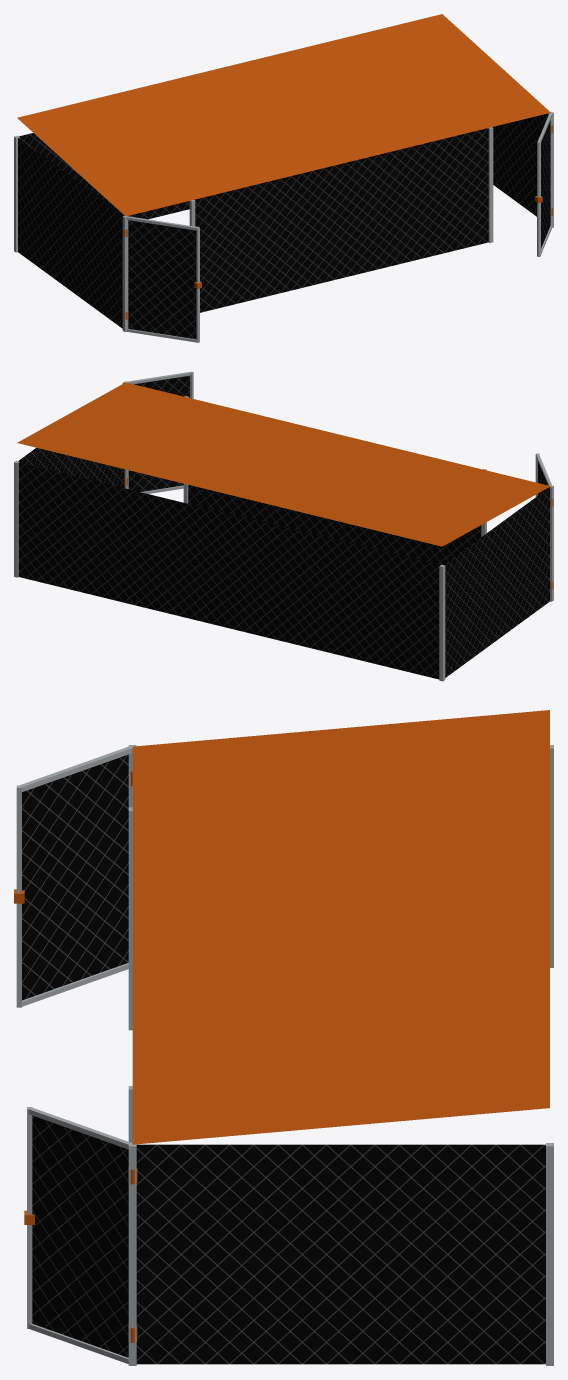
Rendered from poi05_familia_kikiri_preview.glb.
3 renders of one model, top to bottom at view 1: azimuth 30°, elevation 25°; view 2: azimuth 150°, elevation 25°; view 3: azimuth 270°, elevation 25°, orthographic. The views are drawn at different scales.
Parts seen in each view (by area): view 1: techo_lamina_una_agua, malla_ciclonica_h1_8, puerta_D1, puerta_D2, eje_V1, eje_M2, eje_V4, eje_V2; view 2: malla_ciclonica_h1_8, techo_lamina_una_agua, puerta_D2, eje_V4, eje_V3, eje_V1, puerta_D1; view 3: techo_lamina_una_agua, malla_ciclonica_h1_8, puerta_D1, puerta_D2, eje_V2, eje_V3, eje_M1, eje_V4.
Boxes of the visible parts, bbox=[...] form: techo_lamina_una_agua: bbox=[17, 14, 550, 216]; malla_ciclonica_h1_8: bbox=[18, 113, 548, 328]; puerta_D1: bbox=[123, 216, 201, 342]; puerta_D2: bbox=[535, 112, 552, 256]; eje_V1: bbox=[122, 215, 128, 331]; eje_M2: bbox=[488, 127, 493, 243]; eje_V4: bbox=[14, 135, 19, 252]; eje_V2: bbox=[548, 111, 553, 227]; malla_ciclonica_h1_8: bbox=[18, 447, 549, 679]; techo_lamina_una_agua: bbox=[17, 382, 550, 546]; puerta_D2: bbox=[124, 371, 193, 493]; eje_V4: bbox=[439, 564, 445, 681]; eje_V3: bbox=[14, 461, 19, 577]; eje_V1: bbox=[548, 485, 553, 601]; puerta_D1: bbox=[535, 453, 553, 589]; techo_lamina_una_agua: bbox=[132, 710, 549, 1144]; malla_ciclonica_h1_8: bbox=[136, 1144, 545, 1364]; puerta_D1: bbox=[14, 745, 135, 1007]; puerta_D2: bbox=[24, 1107, 137, 1363]; eje_V2: bbox=[128, 1143, 136, 1365]; eje_V3: bbox=[546, 1143, 553, 1365]; eje_M1: bbox=[128, 807, 132, 1030]; eje_V4: bbox=[550, 745, 553, 967].
Bounding box in the file's own units: 7.07 × 2.1 × 4.01.
Materials: 4 (1 with a texture image).
